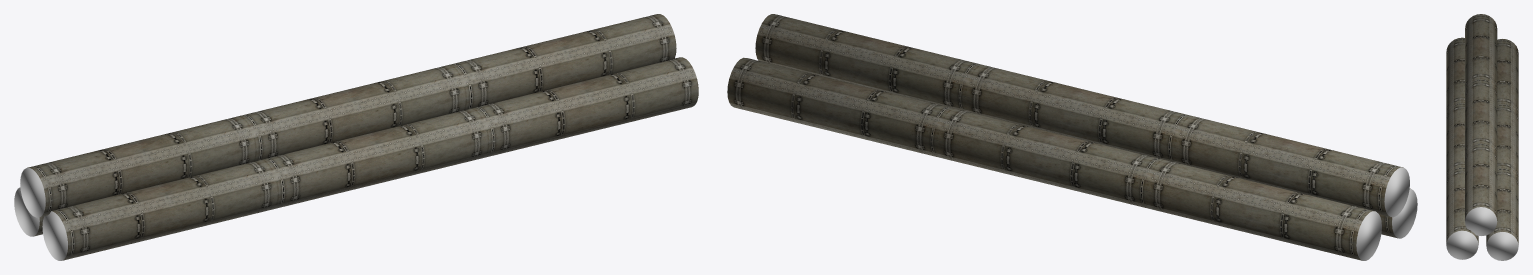
Rendered from pipes.fbx.
The picture shows the model from 3 angles, left to right: view 1: azimuth 30°, elevation 25°; view 2: azimuth 150°, elevation 25°; view 3: azimuth 270°, elevation 25°; orthographic projection. The views are drawn at different scales.
Visible parts, largest first — view 1: Mesh; view 2: Mesh; view 3: Mesh.
Part boxes in pixels (<box>): Mesh: <box>14,14,698,260</box>; Mesh: <box>727,14,1417,260</box>; Mesh: <box>1446,14,1518,260</box>.
Size of the model in its own units: 492 by 59.08 by 76.51.
